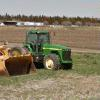Tractor: (20, 19, 77, 69)
